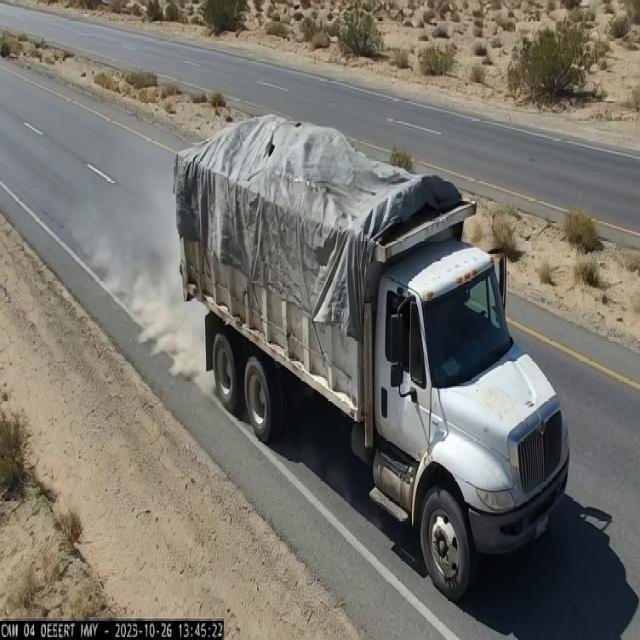Box: (163, 108, 516, 257)
Truck: (153, 67, 580, 596)
